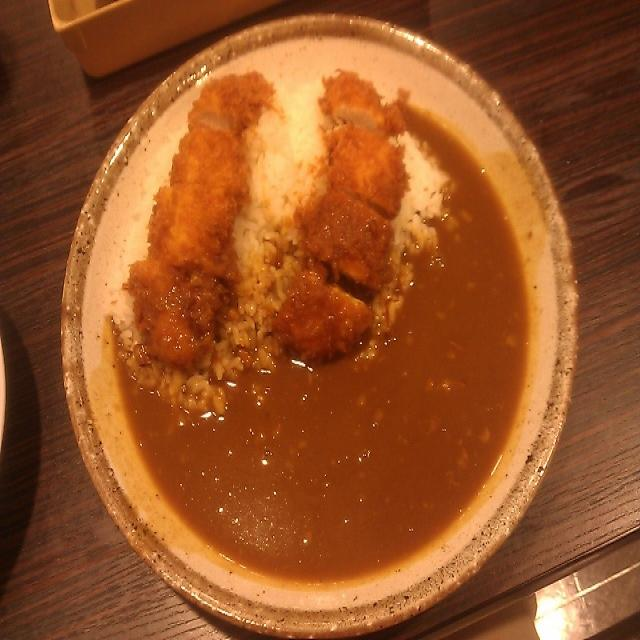猪肉菜式: (60, 7, 577, 629)
